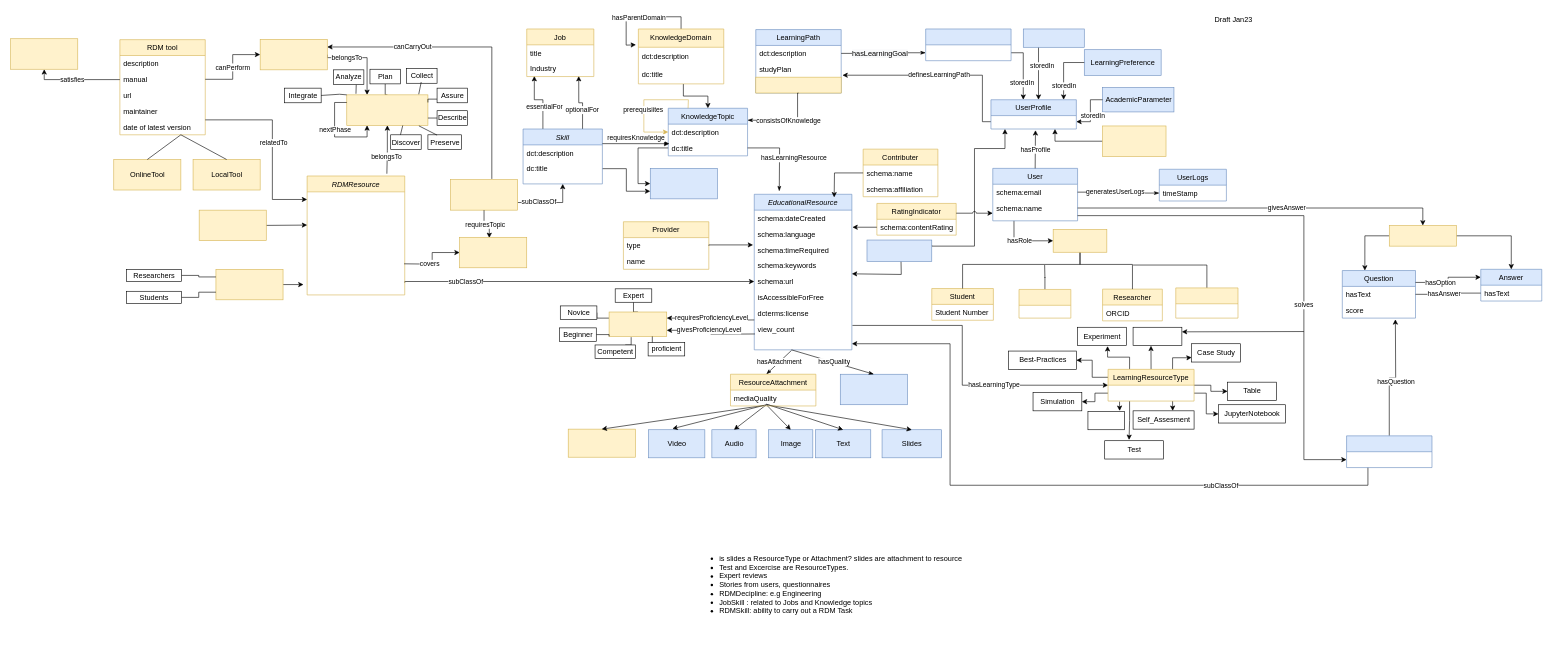
The diagram is 1552 pixels wide and 647 high, and some of its shapes have lost their labels. The shapes that lost their labels are listed below. From the top down, each one's centre as x and y in pixels, then its label:
At point 44,53: "QualityStandards".
At point 293,54: "RDMTask".
At point 968,44: "LearningGoal".
At point 1053,37: "Recommendation".
At point 798,85: "OrderOfTopics:RDFlist".
At point 387,109: "DataLifeCyclePhase".
At point 1134,140: "Organisation".
At point 484,194: "RDMSkill".
At point 683,183: "LearningOutcome".
At point 232,225: "RDMDecipline".
At point 1080,240: "UserRole".
At point 1422,235: "UserAnswer".
At point 493,252: "RDMTopic".
At point 899,250: "Accessibility".
At point 249,284: "TargetGroup".
At point 1044,303: "Teacher".
At point 1206,302: "Author".
At point 637,323: "Proficiency".
At point 1157,336: "Questionnaire".
At point 873,389: "ContentQuality".
At point 1106,420: "Lecture".
At point 601,443: "Code/Script".
At point 1389,451: "Excercise".
